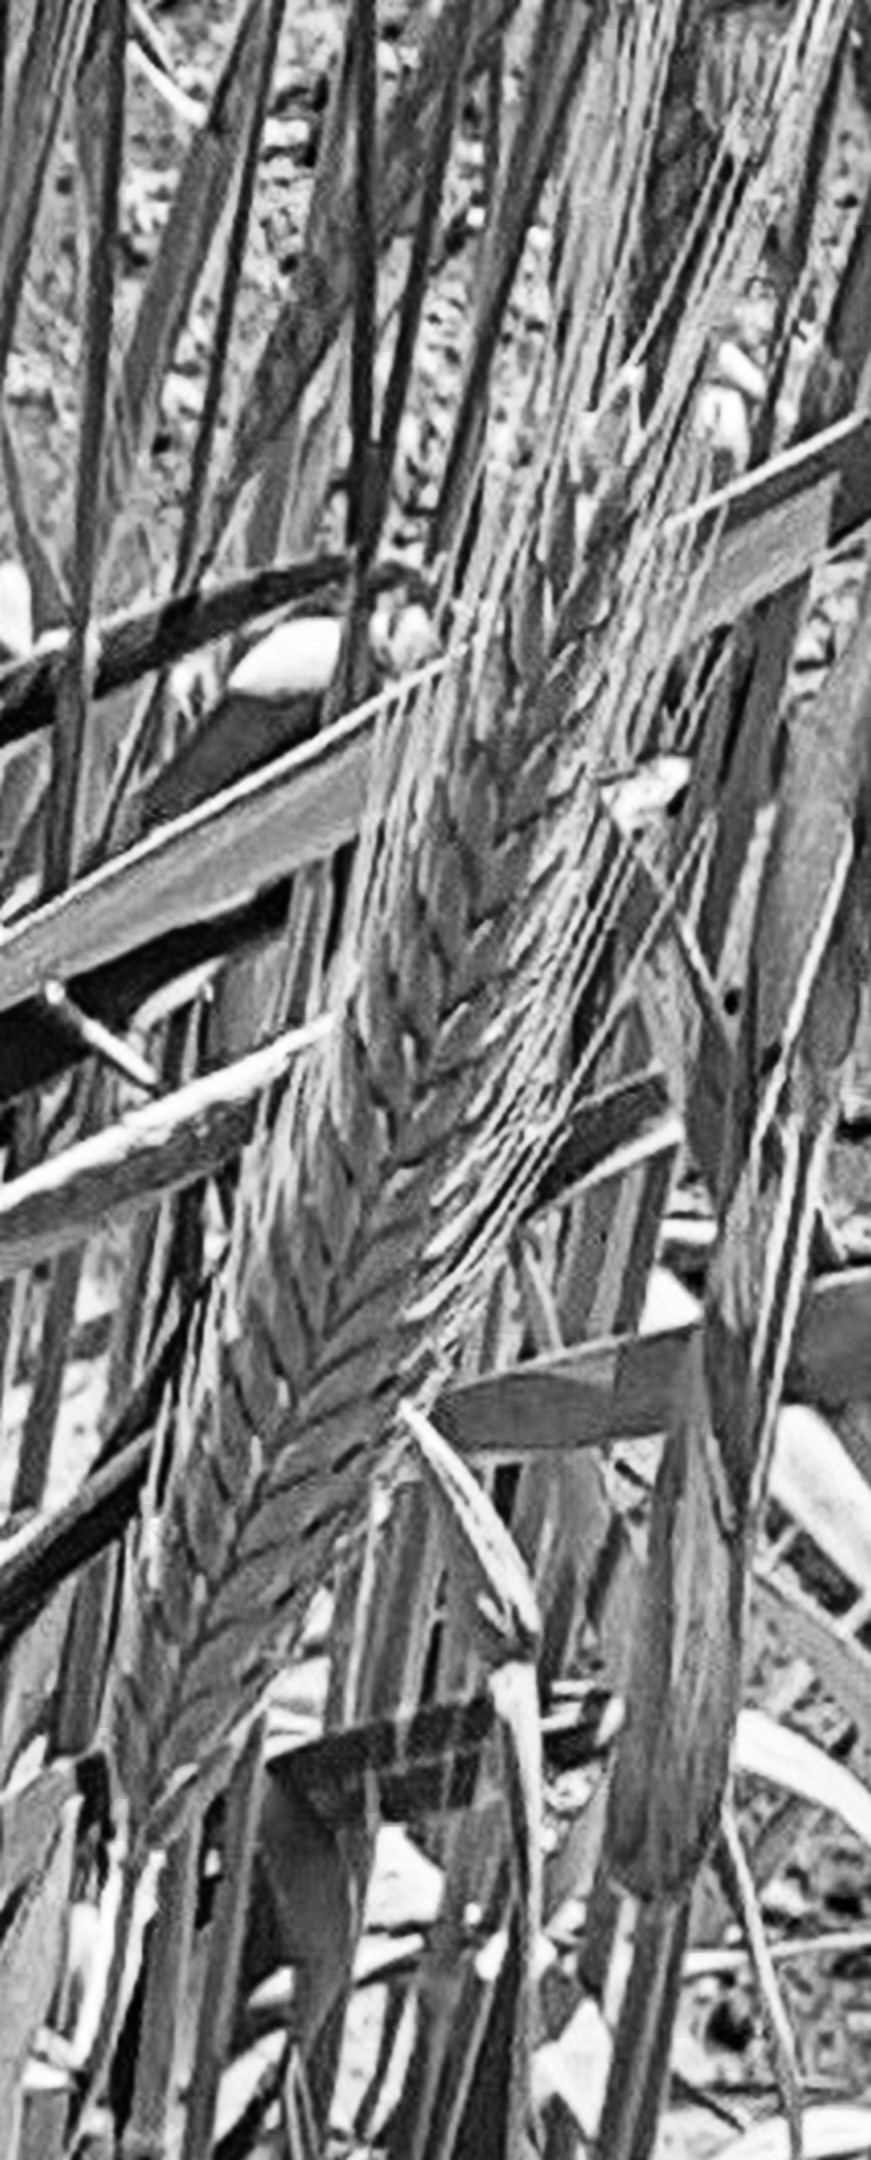Healthy Wheat: (130, 591, 644, 1824)
